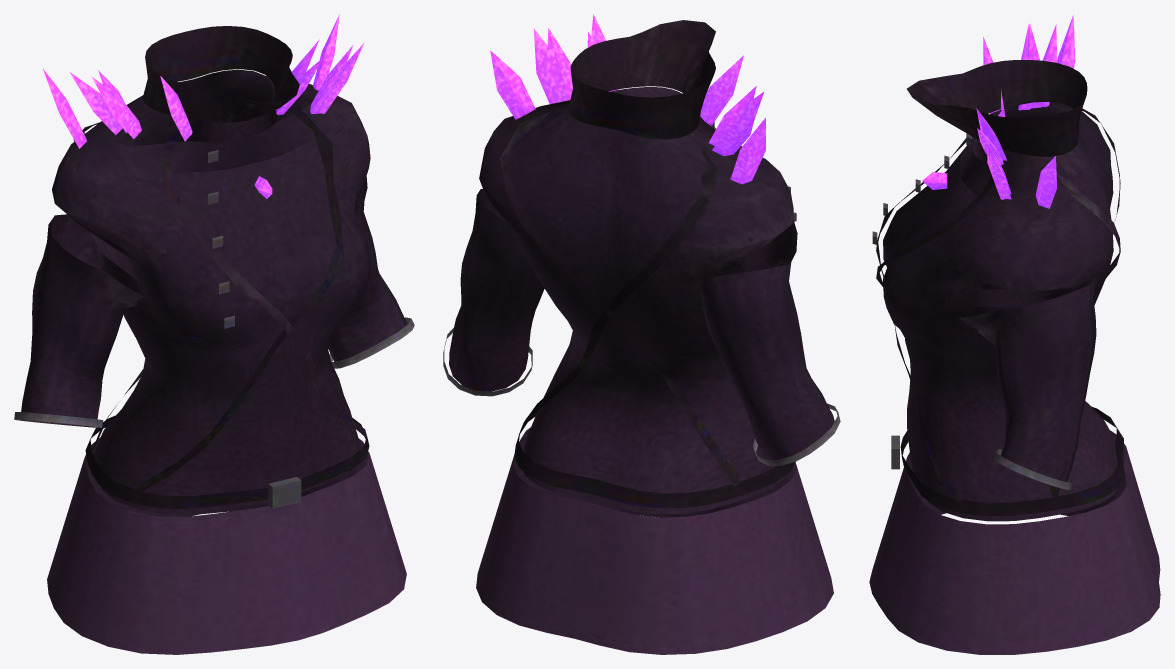
The model's file is Peitoral_de_Couro_nivel100.glb.
The picture shows the model from 3 angles, left to right: view 1: azimuth 30°, elevation 25°; view 2: azimuth 150°, elevation 25°; view 3: azimuth 270°, elevation 25°; orthographic projection. The views are drawn at different scales.
Visible parts, largest first — view 1: peitoral_de_couro_nivel100; view 2: peitoral_de_couro_nivel100; view 3: peitoral_de_couro_nivel100.
Part boxes in pixels (bbox=[...]): peitoral_de_couro_nivel100: bbox=[14, 14, 414, 654]; peitoral_de_couro_nivel100: bbox=[443, 14, 840, 654]; peitoral_de_couro_nivel100: bbox=[869, 14, 1160, 654].
Bounding box in the file's own units: 0.6005 × 0.7927 × 0.41.
1 material, 1 textured.
